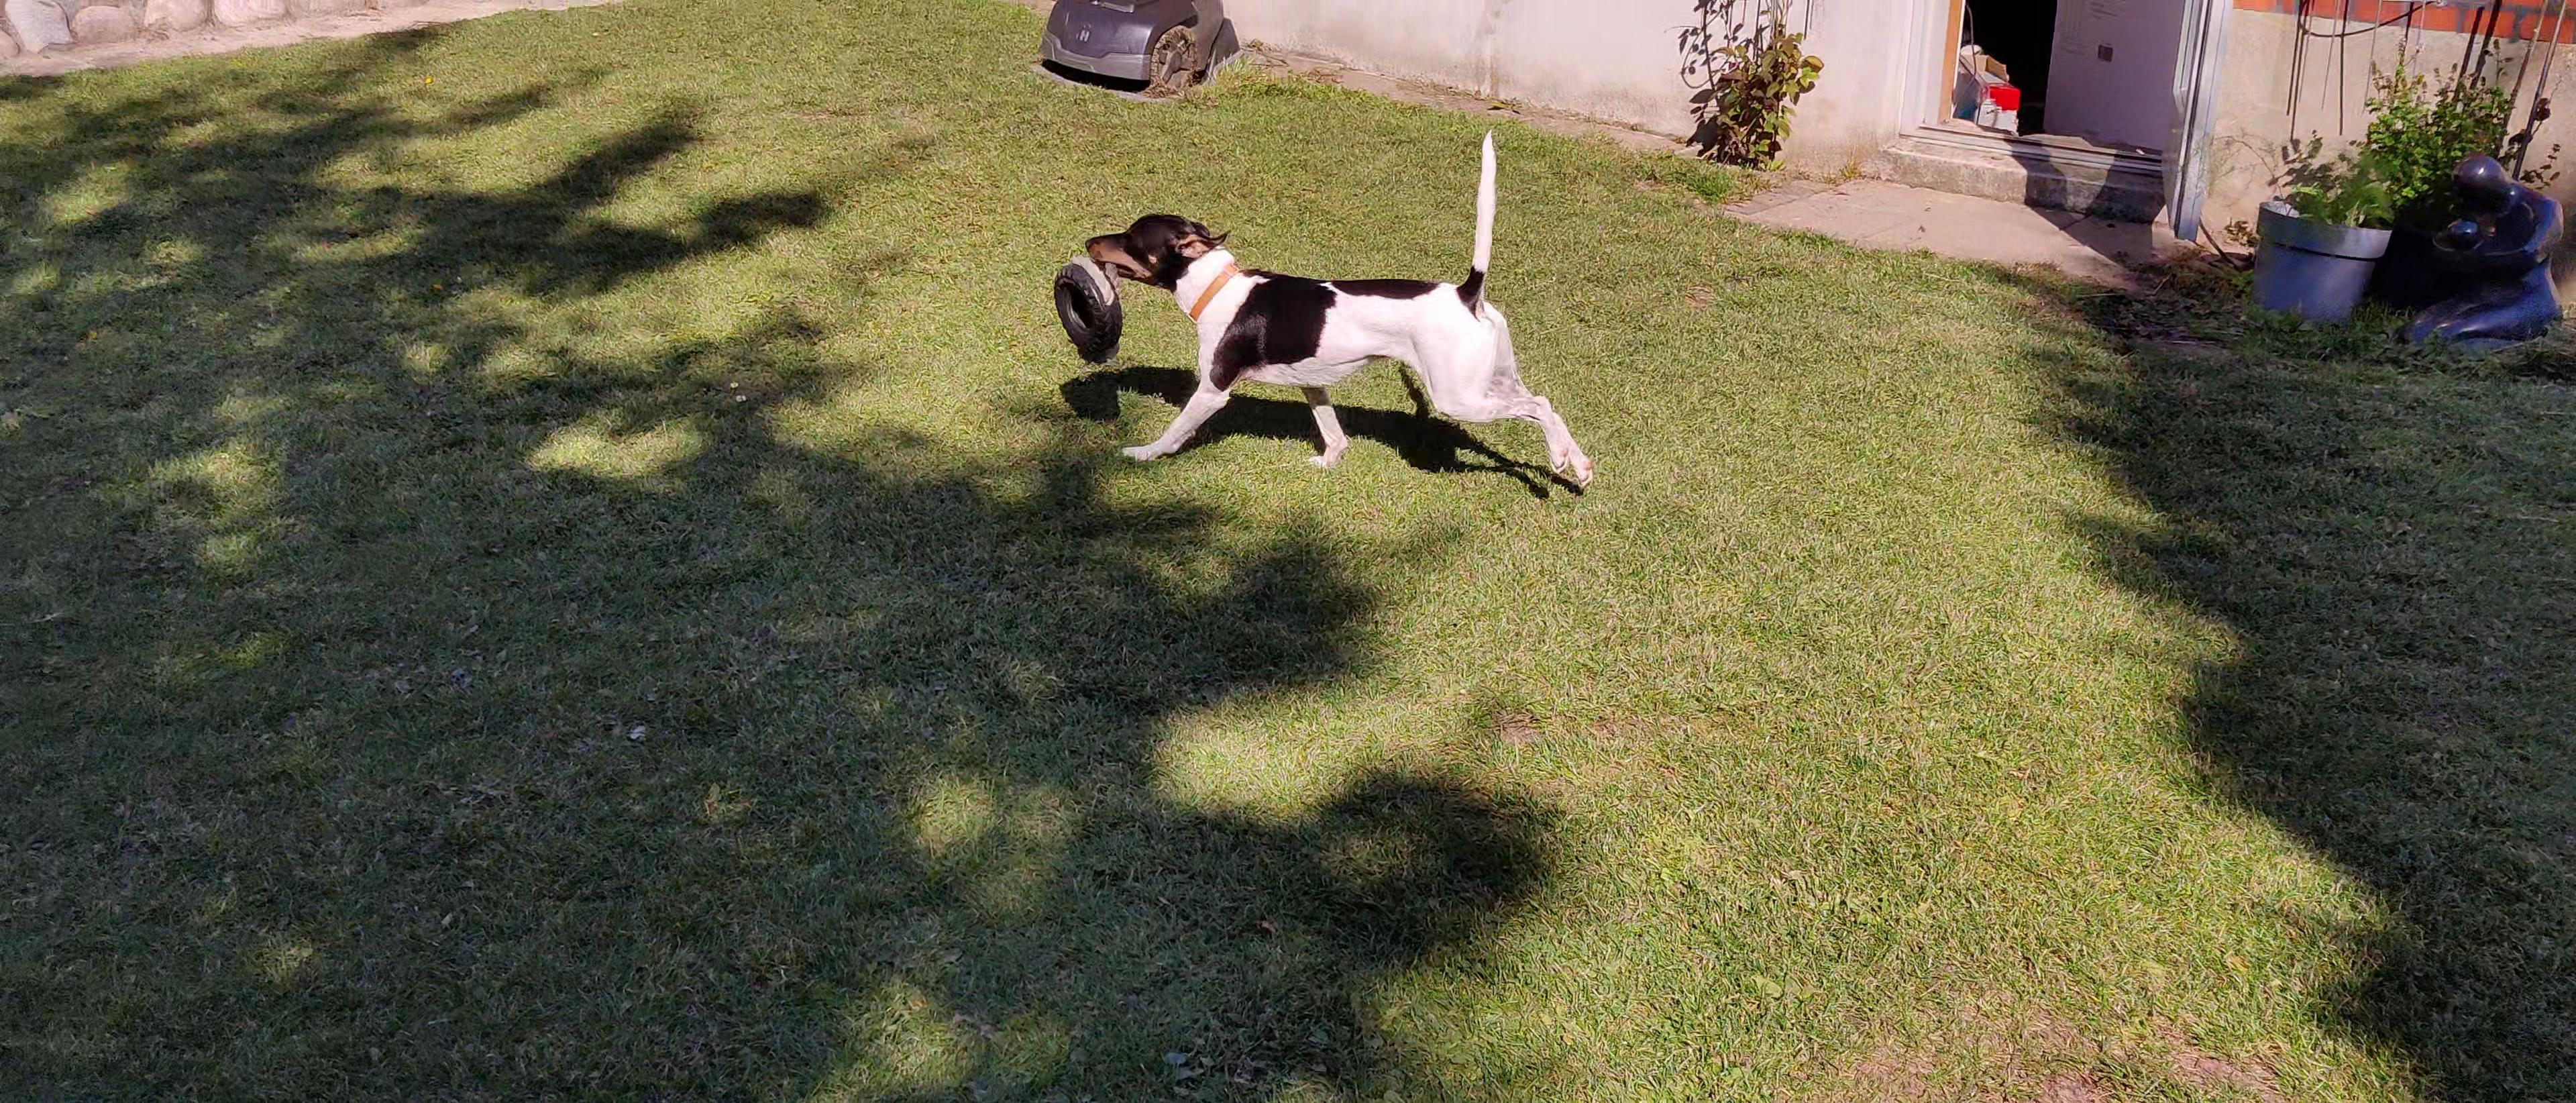Dog: (1076, 127, 1613, 492)
